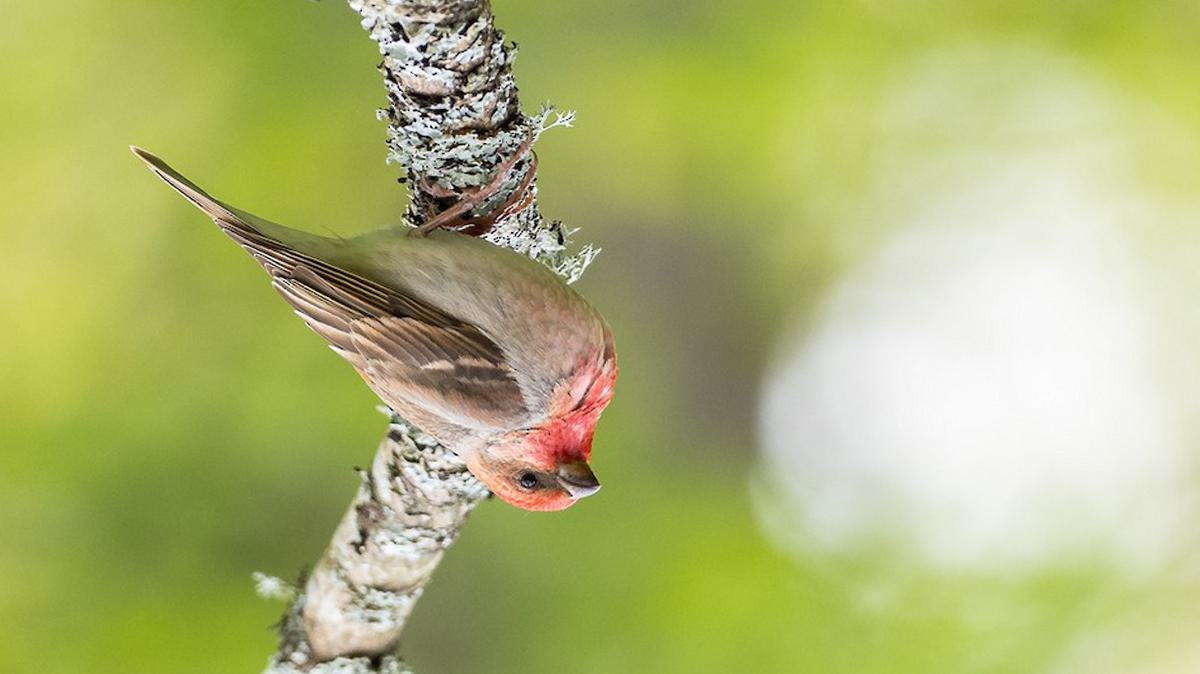rosefinch: (199, 144, 636, 527)
